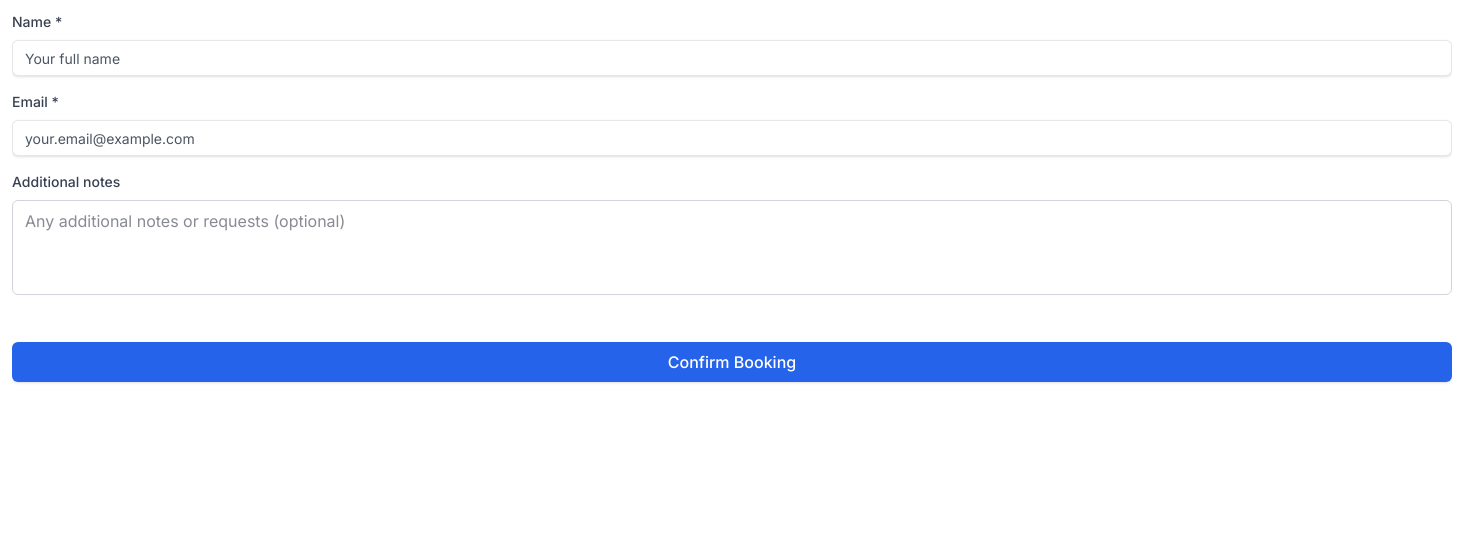
it: BookingForm › Form Validation › clears validation errors when form is corrected
The image size is (1464, 533).
Click the button "Confirm Booking": (732, 362) [12,342,1452,382]
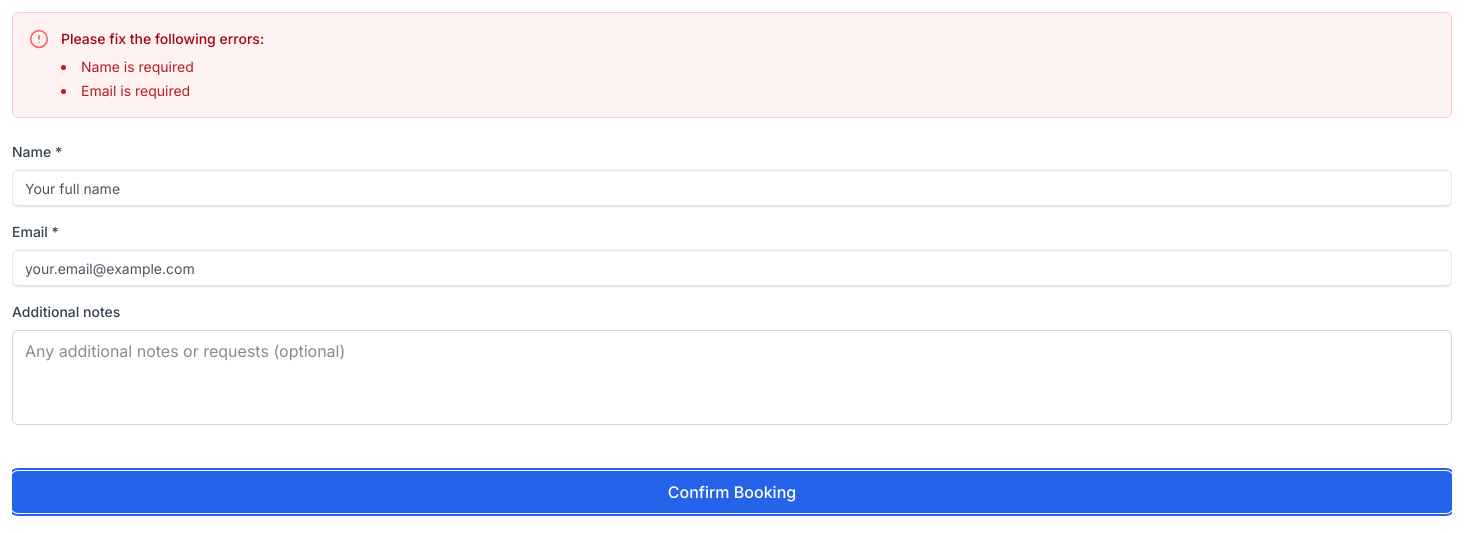
Expected: the list item "Name is required" is shown, [81,58,194,75]
// Fix the validation error
In the field labelled "Name *": (732, 188) [12,170,1452,206], type "John Doe"
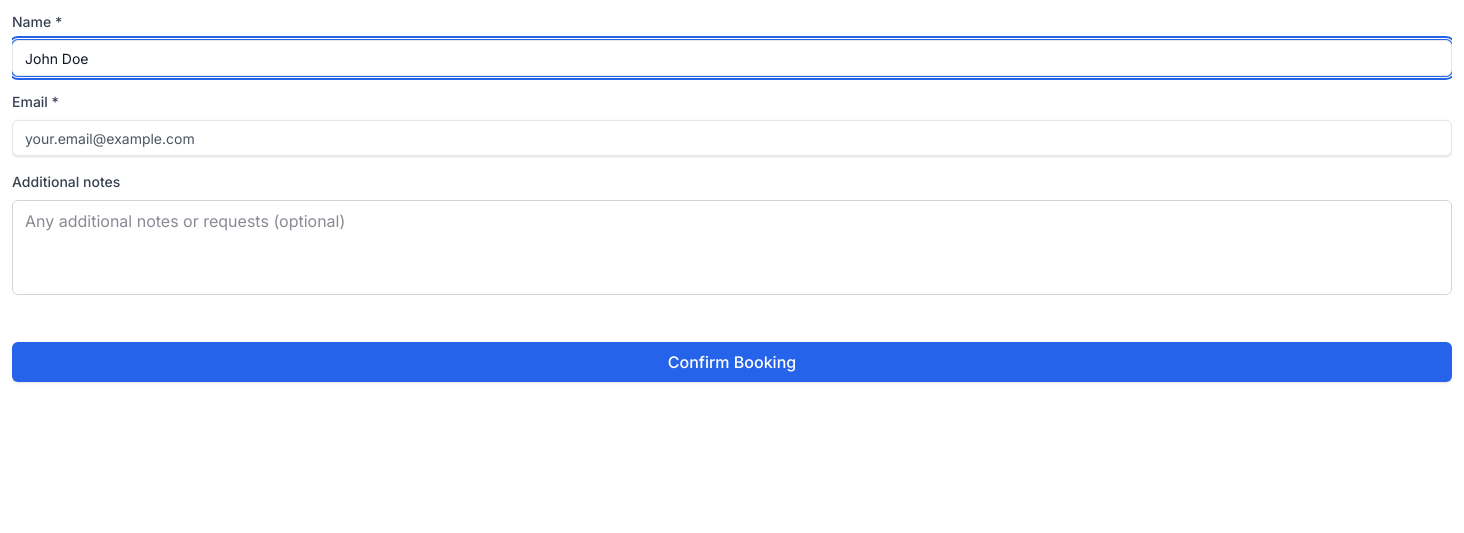
Expected: the list item "Name is required" is gone
